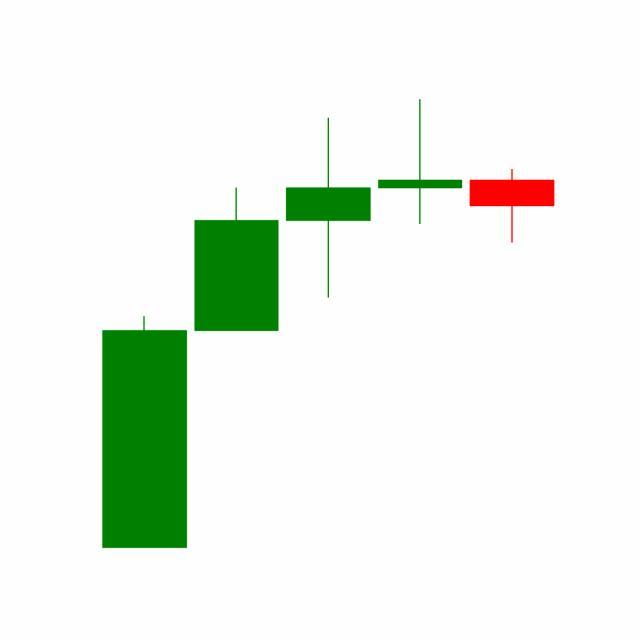Hammer: (466, 168, 559, 244)
